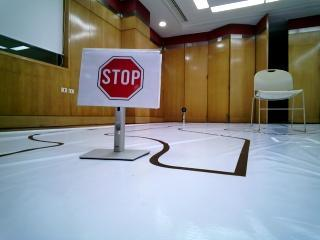stop: (79, 45, 163, 110)
